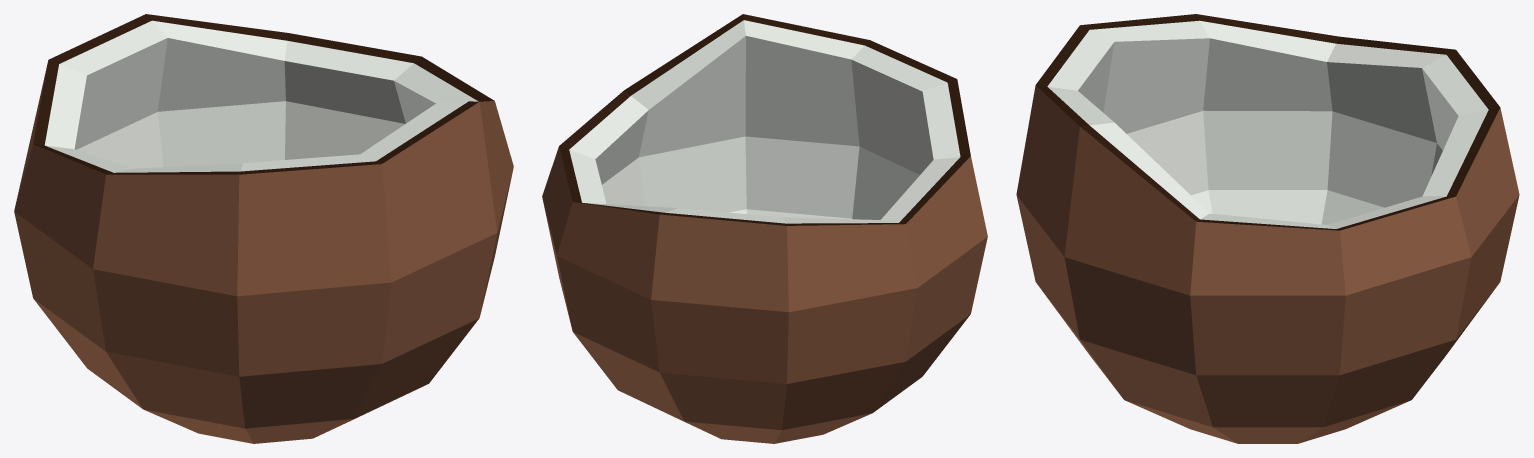
The model's file is coconut.glb.
3 views of the same model, side by side, from view 1: azimuth 30°, elevation 25°; view 2: azimuth 150°, elevation 25°; view 3: azimuth 270°, elevation 25° (orthographic). The views are drawn at different scales.
Visible parts, largest first — view 1: Sphere; view 2: Sphere; view 3: Sphere.
Part boxes in pixels (<box>): Sphere: <box>14,14,513,443</box>; Sphere: <box>542,14,987,443</box>; Sphere: <box>1016,14,1519,443</box>.
Bounding box in the file's own units: 1.16 × 0.9476 × 1.22.
